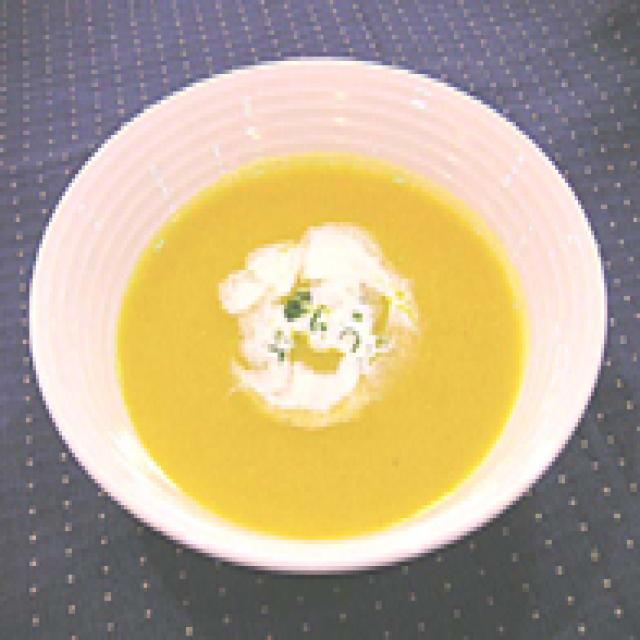汤锅炖物: (91, 156, 639, 640)
